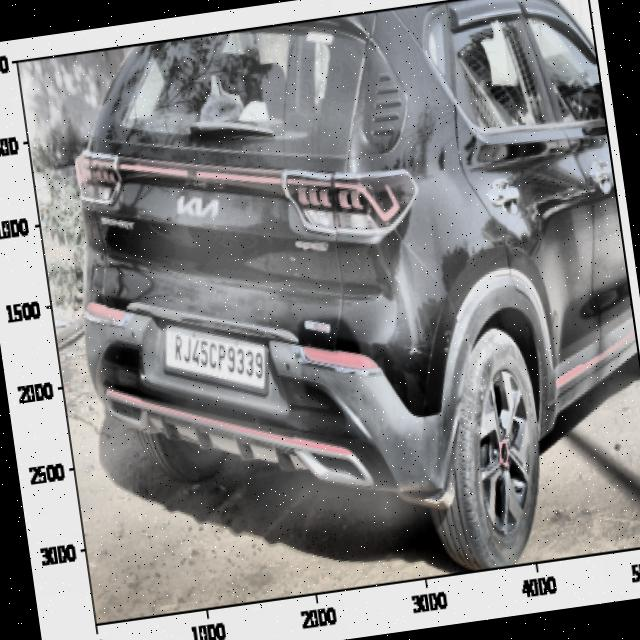license_plate: (167, 316, 270, 402)
